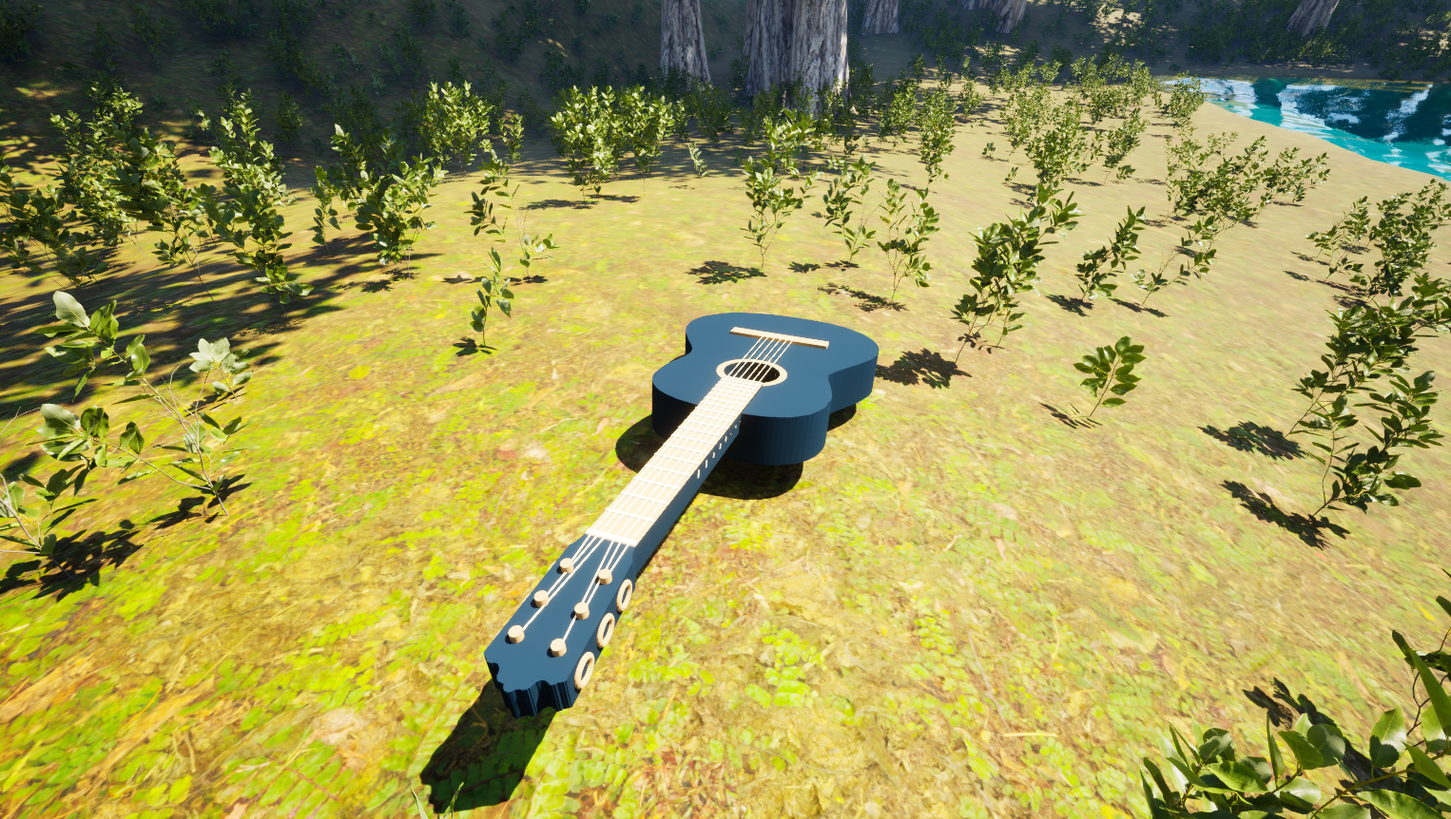Guitar: (295, 225, 900, 819)
